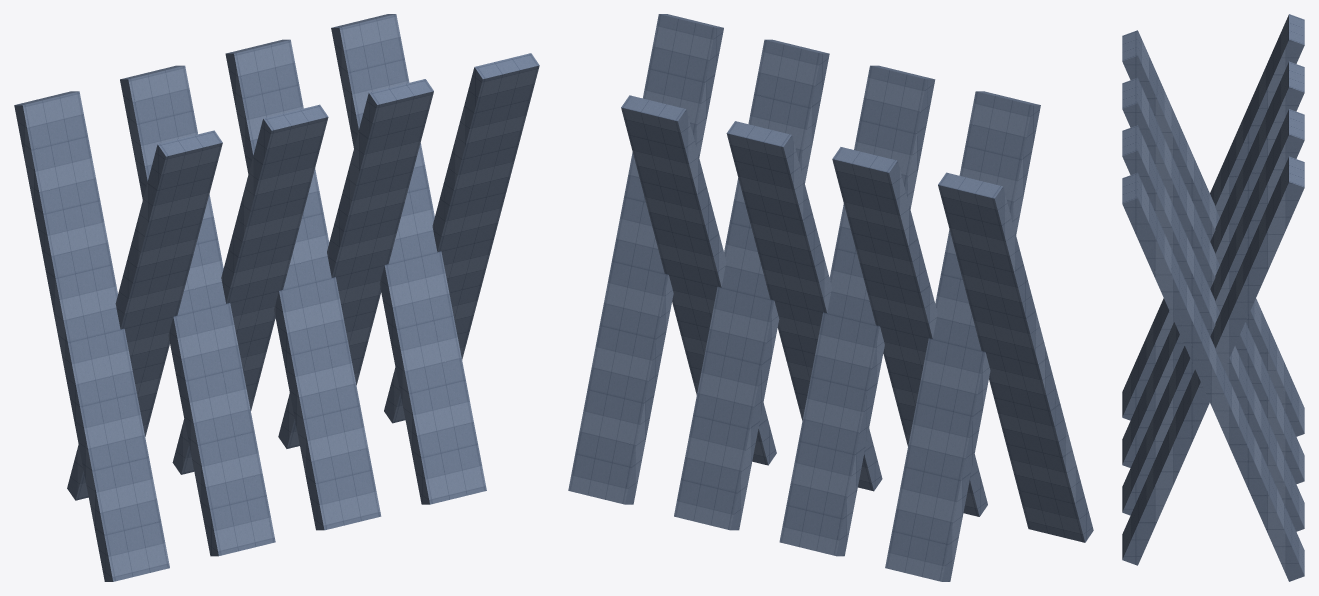
3 views of the same model, side by side, from view 1: azimuth 30°, elevation 25°; view 2: azimuth 150°, elevation 25°; view 3: azimuth 270°, elevation 25° (orthographic). The views are drawn at different scales.
Parts seen in each view (by area): view 1: roof_sawtooth_production_run001; view 2: roof_sawtooth_production_run001; view 3: roof_sawtooth_production_run001.
Boxes of the visible parts, x1,y1,x2,y2 form: roof_sawtooth_production_run001: [14, 14, 539, 581]; roof_sawtooth_production_run001: [568, 14, 1093, 581]; roof_sawtooth_production_run001: [1122, 14, 1304, 581].
Size of the model in its own units: 8.08 by 7.69 by 3.25.
1 material, 1 textured.
